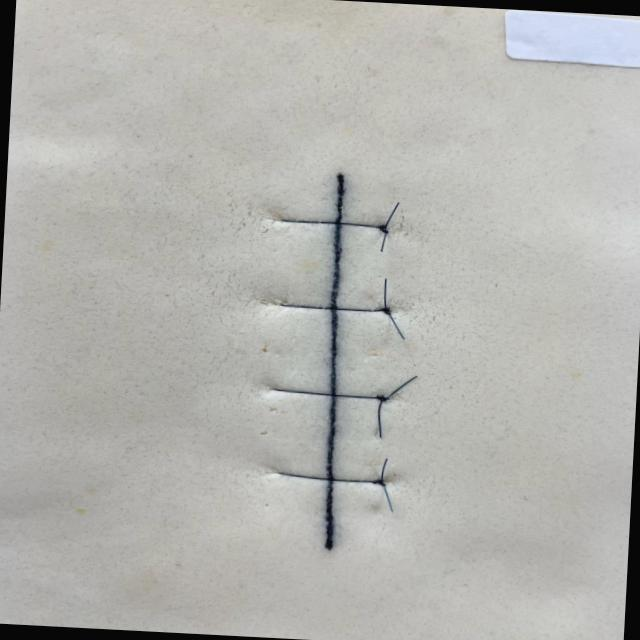knot: (370, 477, 389, 488), (374, 393, 392, 404), (376, 223, 391, 236), (379, 306, 394, 317)
leftover: (383, 374, 419, 400), (385, 311, 406, 340), (383, 201, 401, 229), (381, 483, 394, 512), (376, 398, 385, 439), (380, 457, 389, 483), (379, 229, 388, 253), (383, 277, 388, 311)
stitch: (269, 387, 385, 400), (275, 471, 383, 483), (279, 219, 387, 230), (277, 303, 389, 312)
wound: (326, 173, 344, 551)
